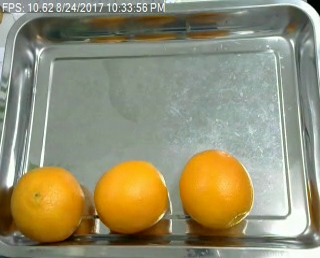Orange: (176, 148, 255, 228), (9, 166, 86, 243), (93, 159, 173, 233)
